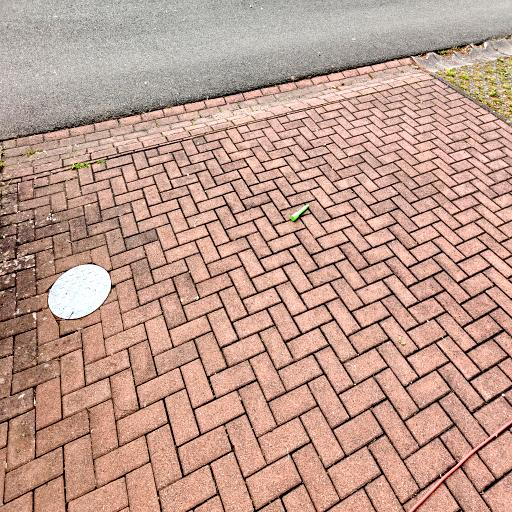Probe-Detection: (290, 204, 309, 221)
